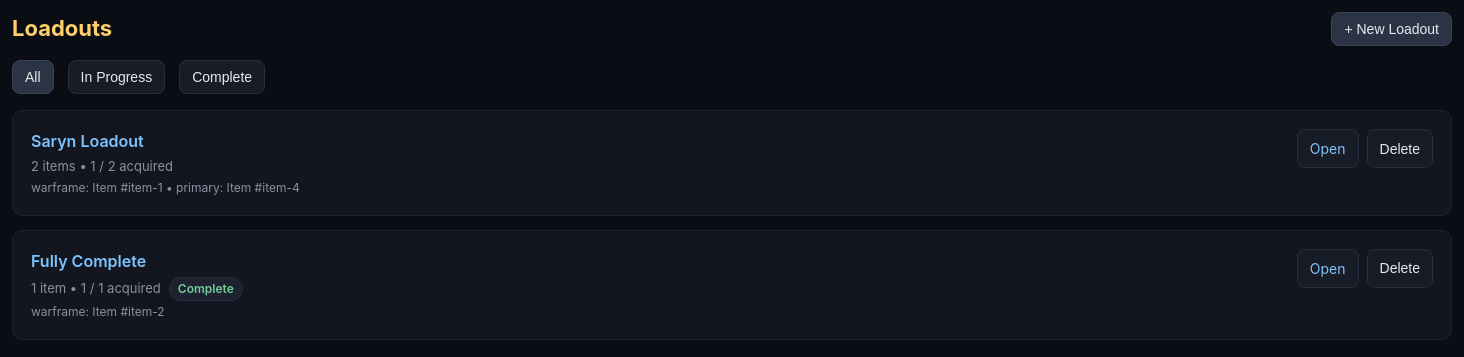
it: LoadoutsPage › filters to show complete loadouts
Check: the link "Saryn Loadout" is shown, box top-left (31, 131), bottom-right (144, 151)
Check: the link "Fully Complete" is shown, box top-left (31, 250), bottom-right (146, 270)
Note: Find the filter button (not the badge)
Click the button "Complete" at (222, 77), box top-left (179, 60), bottom-right (265, 94)
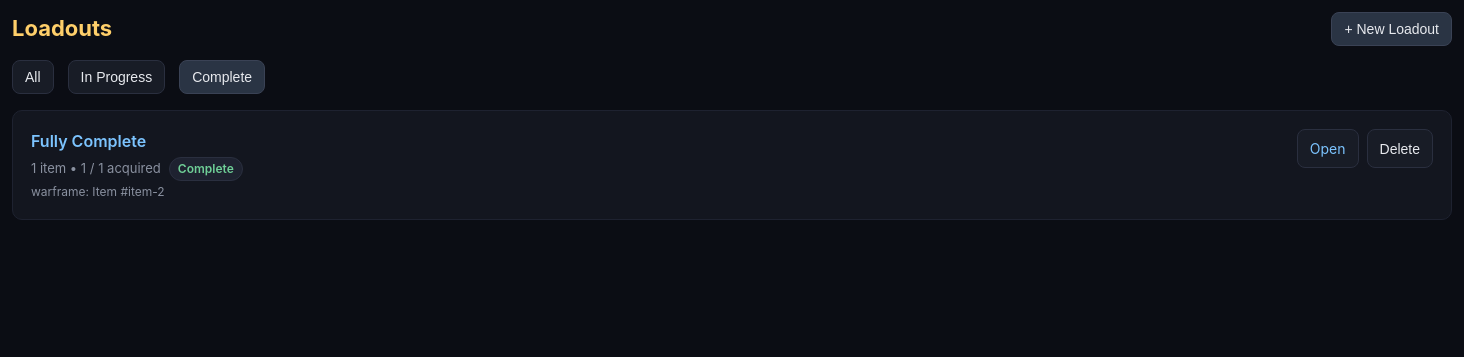
Check: the link "Fully Complete" is shown, box top-left (31, 131), bottom-right (146, 151)
Check: the link "Saryn Loadout" is gone
